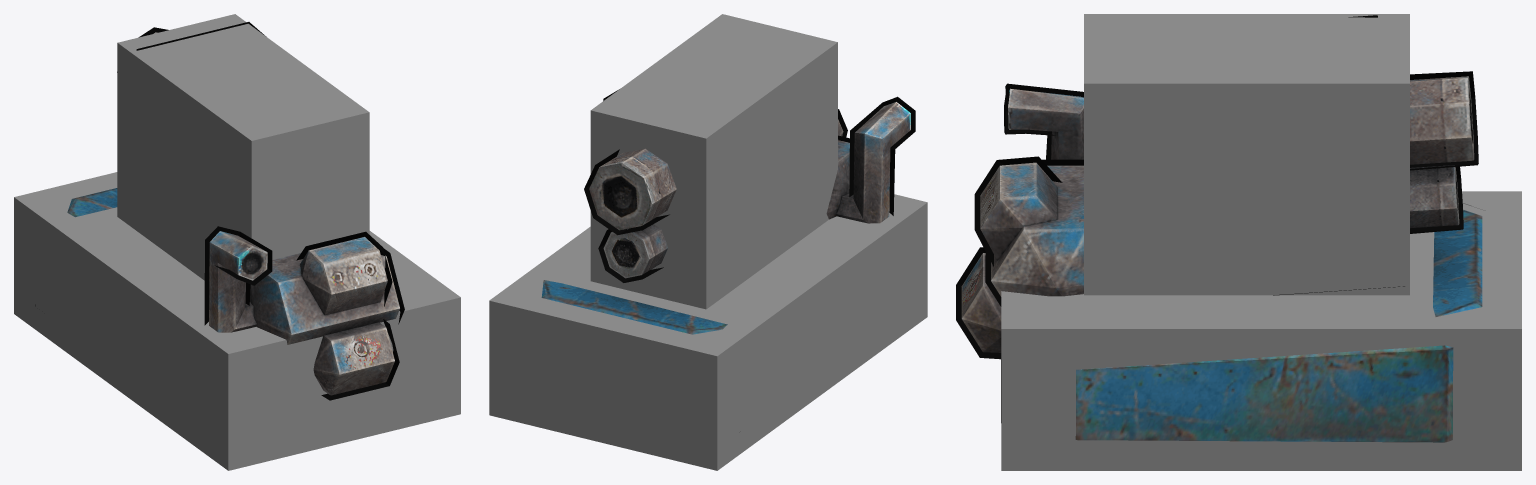
File: tank.FBX
3 views of the same model, side by side, from view 1: azimuth 30°, elevation 25°; view 2: azimuth 150°, elevation 25°; view 3: azimuth 270°, elevation 25° (orthographic). The views are drawn at different scales.
Parts seen in each view (by area): view 1: tank; view 2: tank; view 3: tank.
Boxes of the visible parts, <box> form: tank: <box>14,14,460,470</box>; tank: <box>489,14,927,470</box>; tank: <box>956,14,1521,470</box>.
Size of the model in its own units: 1.03 by 1.2 by 1.74.
